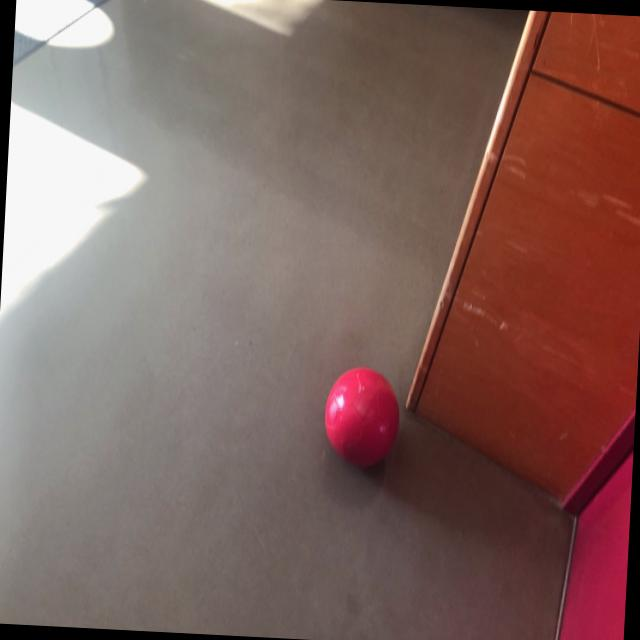red_ball: (322, 365, 402, 473)
